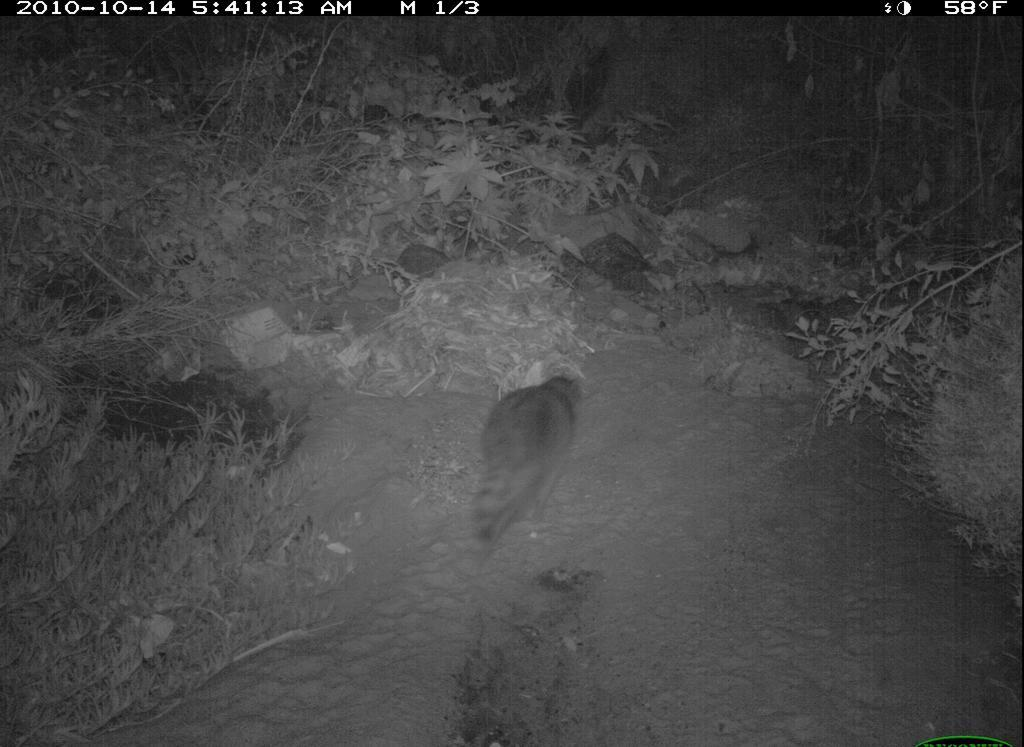raccoon: (452, 360, 601, 548)
